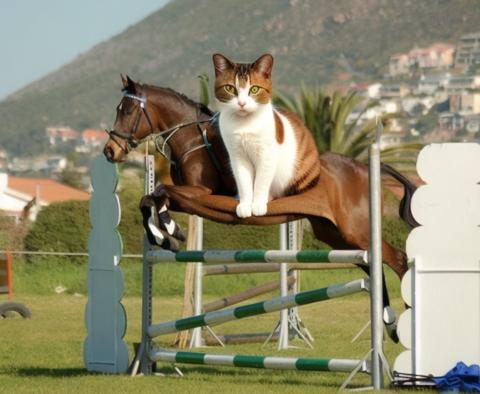cat: (200, 55, 320, 217)
horse: (104, 74, 420, 344)
